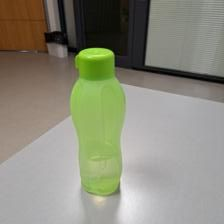bottle: (69, 44, 128, 196)
